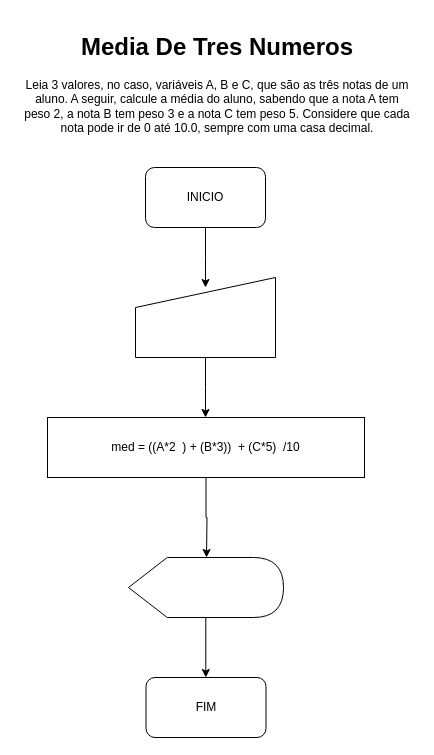
Image size: 434x755. Some labels were removed from this diagram. Each missing label, with the box of its shape:
med = resultado: (128, 556, 284, 618)
Usuario digita dois valores A, B e C: (134, 276, 276, 358)
